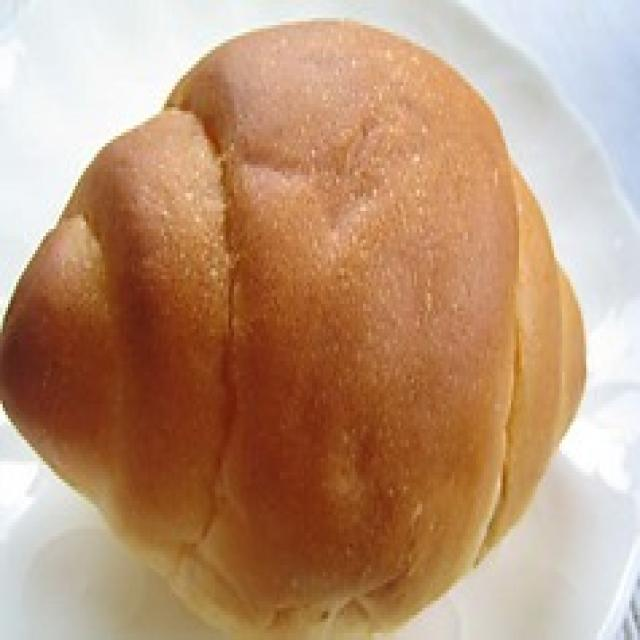面包点心: (0, 0, 589, 640)
